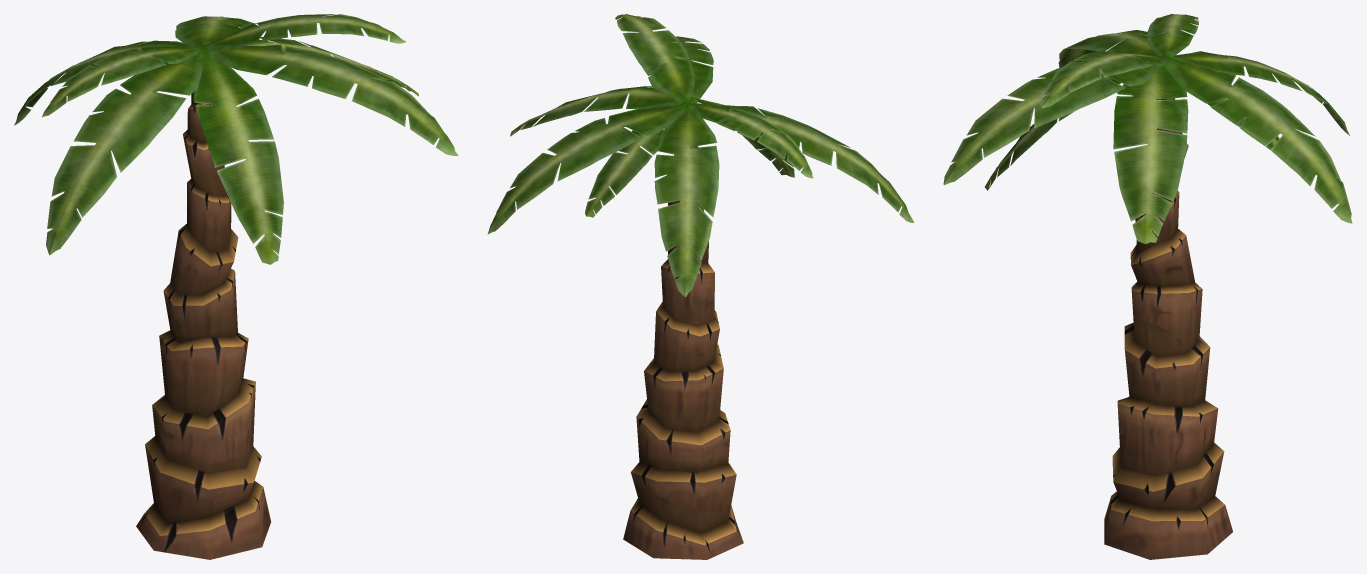
Rendered from palmTree.glb.
3 renders of one model, left to right at view 1: azimuth 30°, elevation 25°; view 2: azimuth 150°, elevation 25°; view 3: azimuth 270°, elevation 25°, orthographic. The views are drawn at different scales.
Visible parts, largest first — view 1: Palm.005; view 2: Palm.005; view 3: Palm.005.
Part boxes in pixels (x1,y1,x2,y2): Palm.005: [14, 14, 458, 559]; Palm.005: [487, 14, 914, 559]; Palm.005: [943, 14, 1352, 559].
Bounding box in the file's own units: 210 × 254 × 186.
Materials: 1 (1 with a texture image).
